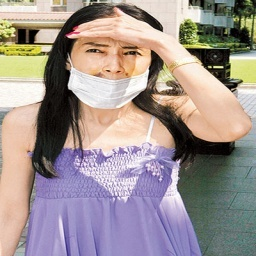incorrectlyWear: (64, 38, 151, 109)
